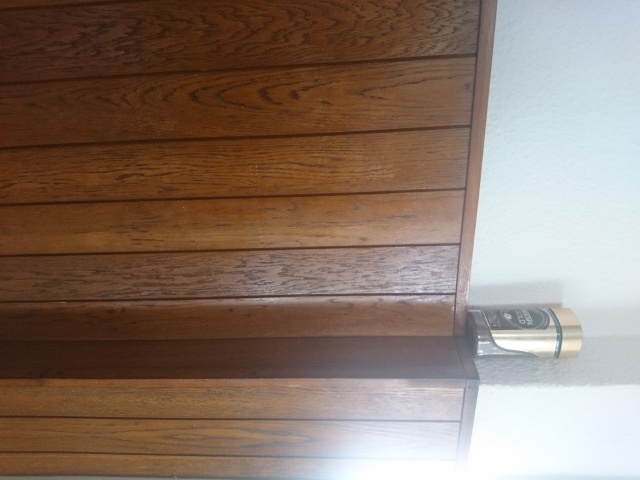Nescafe Gold 225g: (463, 305, 585, 362)
